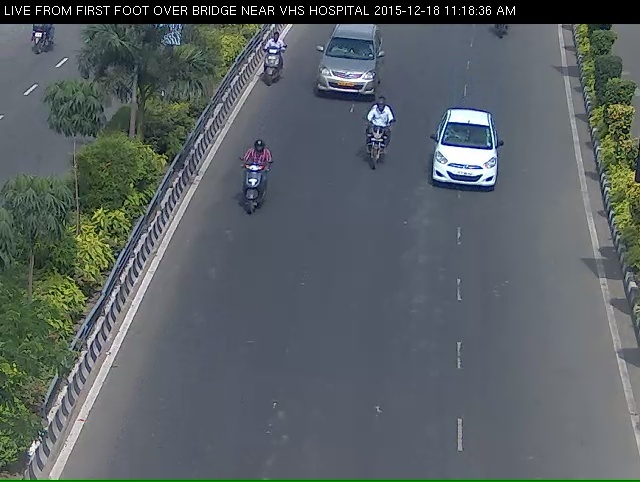Car: (424, 110, 507, 212), (317, 24, 383, 110)
Person: (225, 153, 263, 232), (358, 114, 392, 185), (249, 37, 283, 98)
